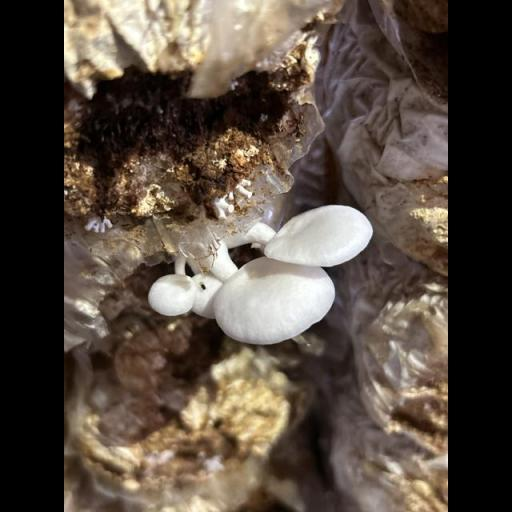White Oyster Mushroom: (152, 205, 370, 343)
